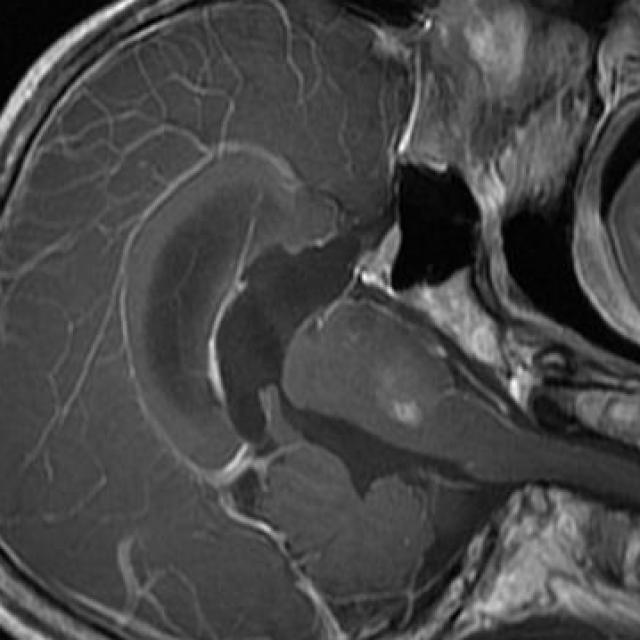glioma: (376, 357, 440, 426)
